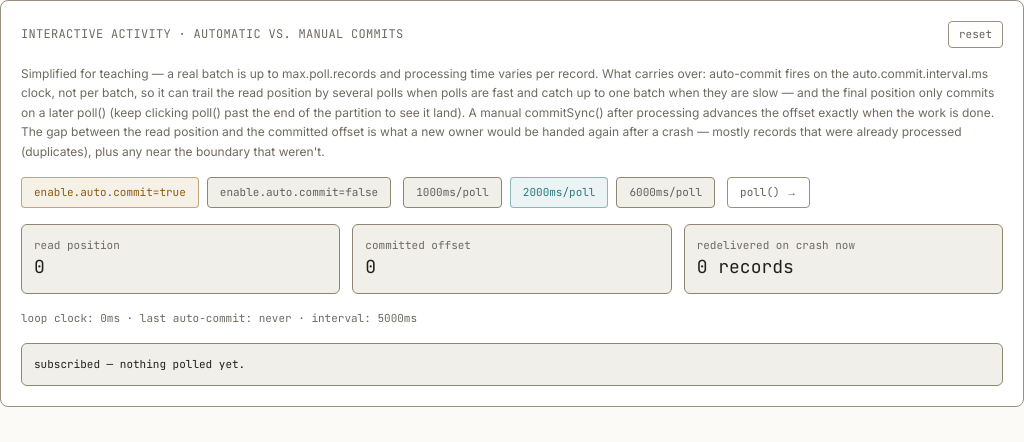
Test case: CommitStrategyDemo › switching mode resets progress
What coordinates should you click on to do the following:
click the button "poll() →"
I would click on:
 (769, 192)
Its box is x1=727 y1=177 x2=810 y2=208.
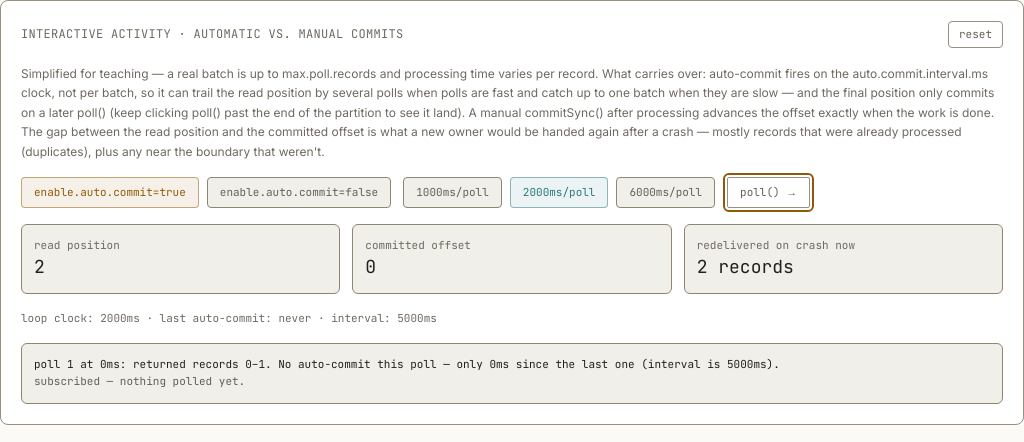
What coordinates should you click on to do the following:
click the button "enable.auto.commit=false"
I would click on:
 (299, 192)
Its box is x1=207 y1=177 x2=391 y2=208.
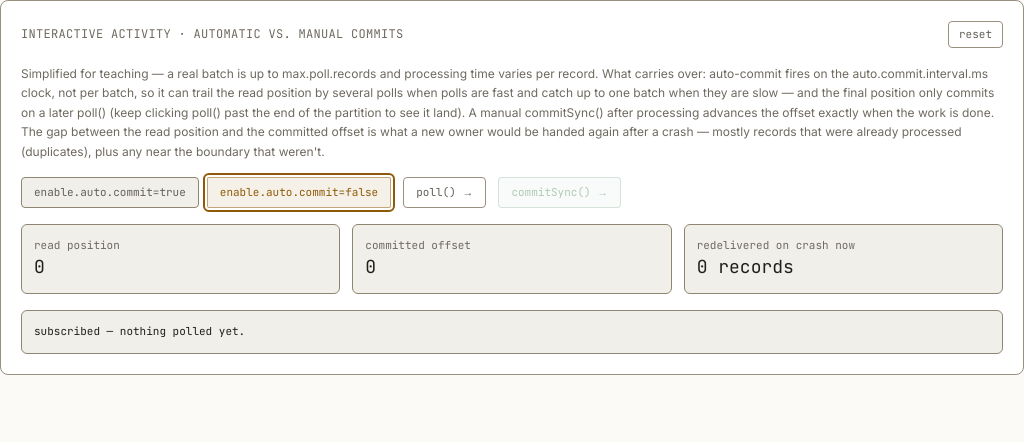
Expected: the text with test id "committed-position" reads "0", x1=365 y1=255 x2=376 y2=278
Expected: the text with test id "read-position" reads "0", x1=34 y1=255 x2=45 y2=278
